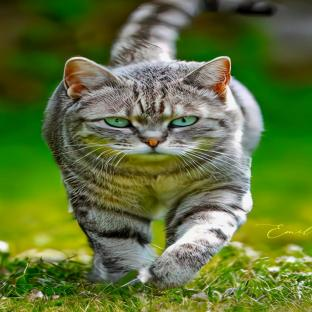Animal: (42, 0, 263, 288)
